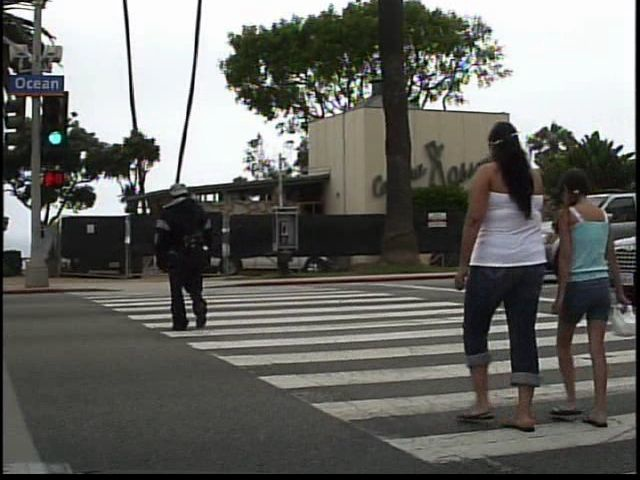person: (447, 117, 564, 448), (561, 162, 630, 435), (147, 172, 224, 342)
